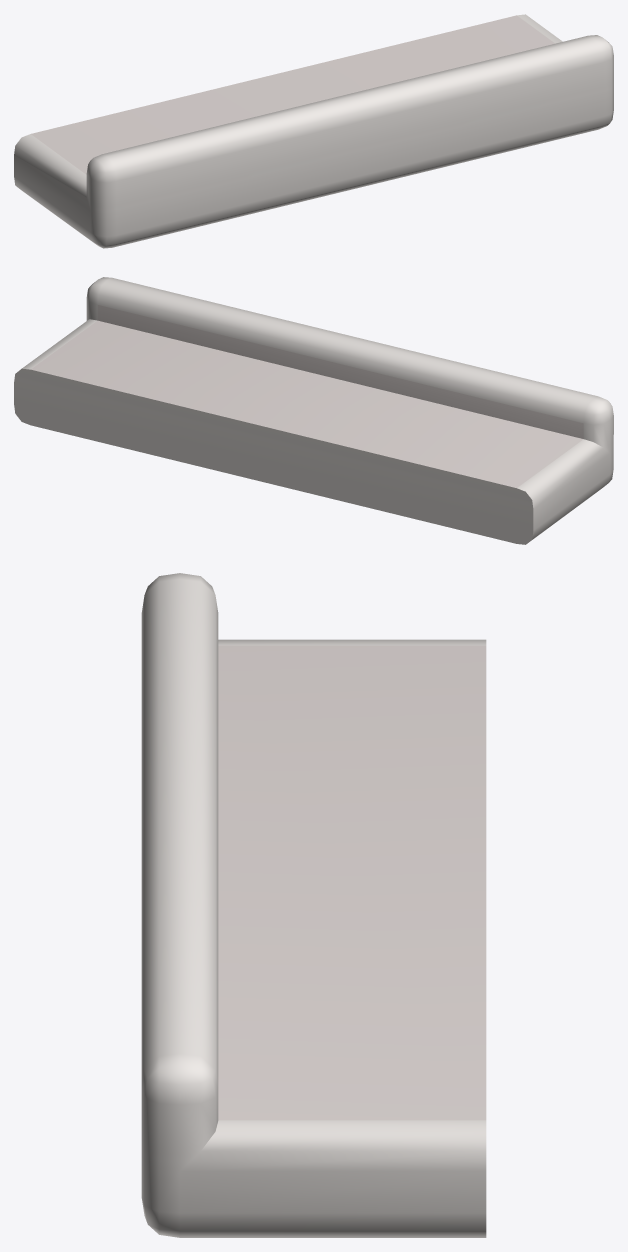
Rendered from Shelf_06.glb.
3 renders of one model, top to bottom at view 1: azimuth 30°, elevation 25°; view 2: azimuth 150°, elevation 25°; view 3: azimuth 270°, elevation 25°, orthographic. The views are drawn at different scales.
Parts seen in each view (by area): view 1: Shelf_06; view 2: Shelf_06; view 3: Shelf_06.
Part boxes in pixels (bbox=[...]): Shelf_06: bbox=[14, 14, 613, 248]; Shelf_06: bbox=[14, 277, 613, 544]; Shelf_06: bbox=[141, 573, 486, 1237].
Size of the model in its own units: 0.78 by 0.1277 by 0.2242.
Materials: 1 (1 with a texture image).
